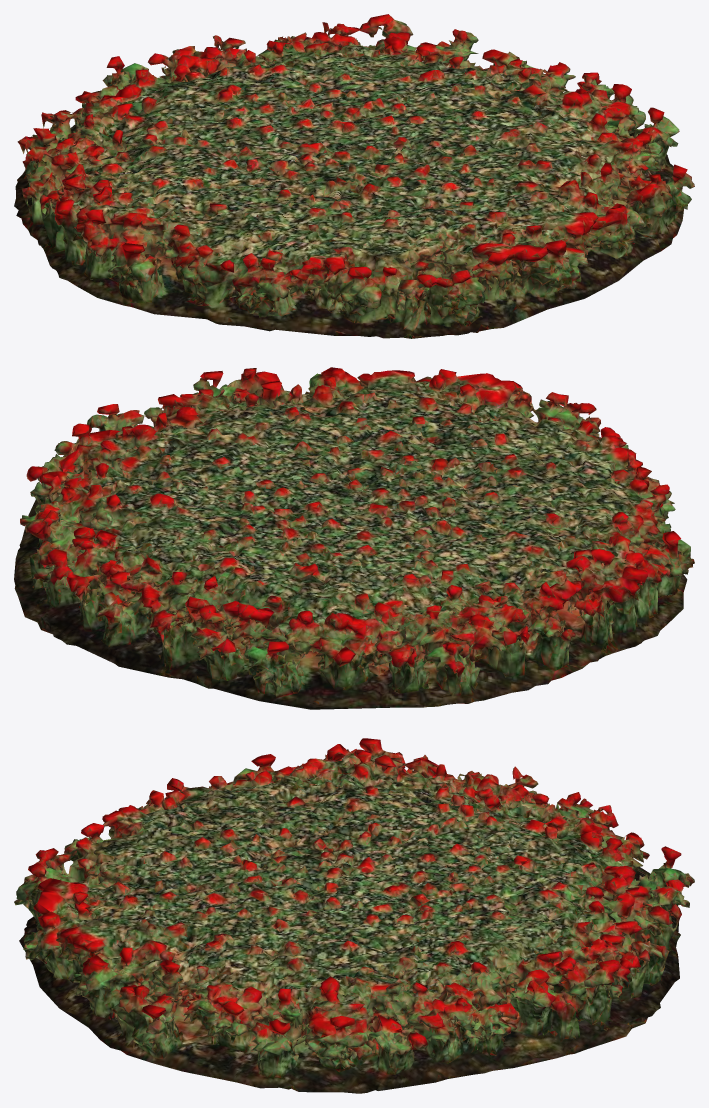
Rendered from flowerbed_a.glb.
3 views of the same model, one above another, from view 1: azimuth 30°, elevation 25°; view 2: azimuth 150°, elevation 25°; view 3: azimuth 270°, elevation 25° (orthographic). The views are drawn at different scales.
Visible parts, largest first — view 1: Mesh_0; view 2: Mesh_0; view 3: Mesh_0.
Boxes of the visible parts, x1,y1,x2,y2 form: Mesh_0: (14,14,694,338); Mesh_0: (14,367,694,709); Mesh_0: (14,738,694,1093).
Bounding box in the file's own units: 1.9 × 0.2303 × 1.86.
1 material, 1 textured.
